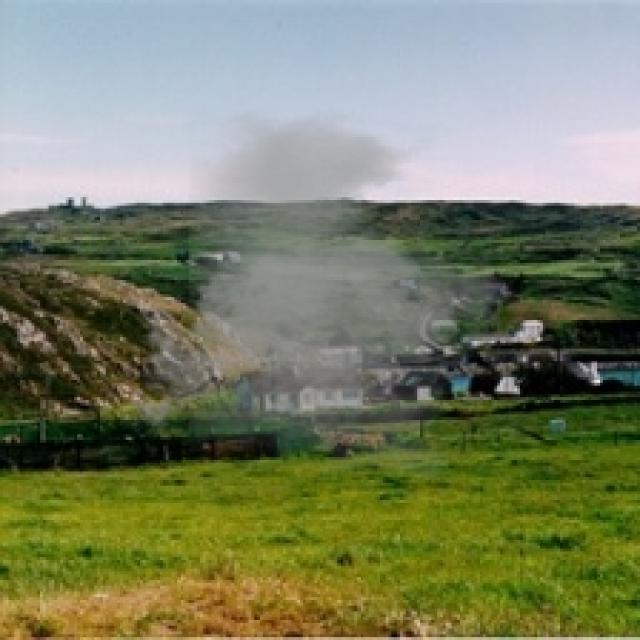Smoke: (117, 109, 520, 478)
